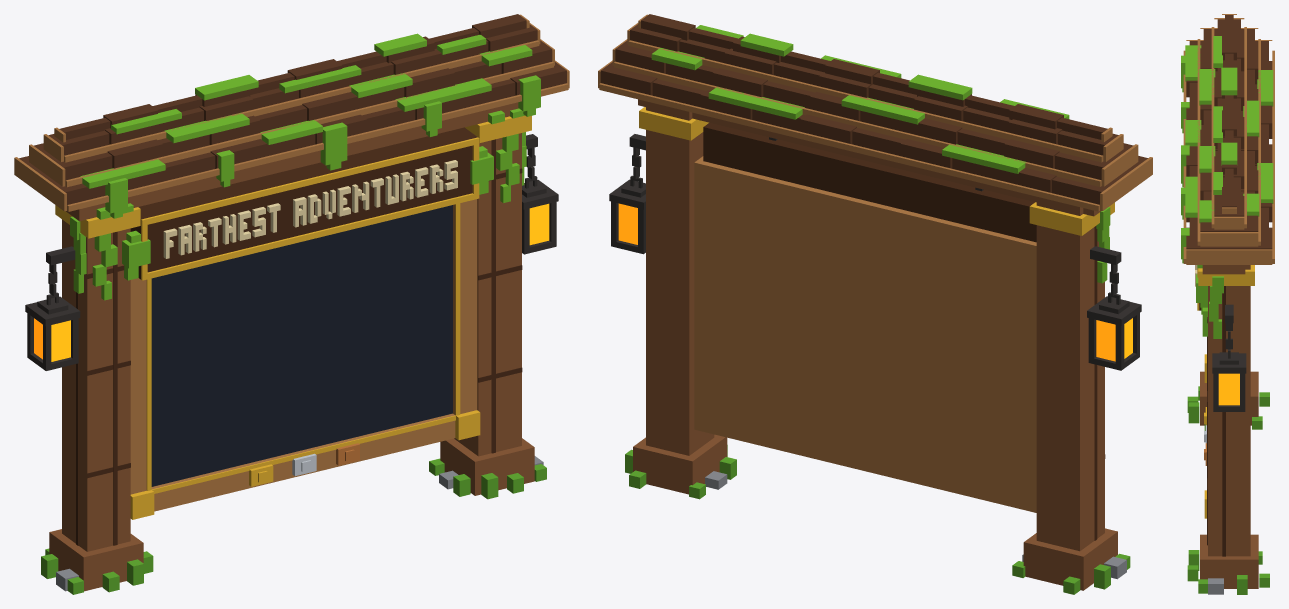
The model's file is Lobby_Leaderboard.glb.
3 renders of one model, left to right at view 1: azimuth 30°, elevation 25°; view 2: azimuth 150°, elevation 25°; view 3: azimuth 270°, elevation 25°, orthographic. The views are drawn at different scales.
Visible parts, largest first — view 1: LeaderboardFace, Roof_Shingles, Post_L, Header_Plank, Frame, Post_R, Roof_Edge_Planks, Roof_Moss, Header_Letters, Header_Trim, Crossbeam, Screen_Trim (+17 smaller); view 2: Frame, Roof_Shingles, Post_L, Post_R, Header_Plank, Roof_Edge_Planks, Roof_Moss, Foot_L, Foot_R, Lantern_L_Frame, Crossbeam, Lantern_R_Frame (+7 smaller); view 3: Roof_Shingles, Post_R, Roof_Moss, Roof_Edge_Planks, Foot_R, Lantern_R_Frame, Post_R_Grooves, Grass_R, Roof_Moss_Drips, Post_R_Vines, Foot_L, Lantern_R_Glass (+8 smaller).
Boxes of the visible parts, x1,y1,x2,y2 form: LeaderboardFace: (151, 205, 452, 486); Roof_Shingles: (19, 14, 566, 204); Post_L: (62, 219, 130, 551); Header_Plank: (130, 127, 477, 279); Frame: (130, 199, 477, 511); Post_R: (454, 133, 521, 456); Roof_Edge_Planks: (14, 14, 569, 211); Roof_Moss: (80, 33, 532, 188); Header_Letters: (163, 160, 457, 258); Header_Trim: (141, 137, 479, 280); Crossbeam: (66, 102, 518, 221); Screen_Trim: (146, 203, 460, 493); Frame: (694, 156, 1036, 512); Roof_Shingles: (600, 14, 1147, 204); Post_L: (1036, 197, 1104, 551); Post_R: (646, 101, 714, 455); Header_Plank: (703, 122, 1036, 242); Roof_Edge_Planks: (598, 14, 1152, 211); Roof_Moss: (651, 25, 1069, 173); Foot_L: (1023, 528, 1117, 590); Foot_R: (633, 434, 727, 494); Lantern_L_Frame: (1087, 292, 1141, 370); Crossbeam: (638, 99, 1100, 216); Lantern_R_Frame: (609, 175, 645, 254); Roof_Shingles: (1186, 15, 1272, 249); Post_R: (1208, 265, 1250, 556); Roof_Moss: (1185, 36, 1273, 223); Roof_Edge_Planks: (1183, 14, 1274, 264); Foot_R: (1200, 534, 1258, 588); Lantern_R_Frame: (1212, 349, 1246, 411); Post_R_Grooves: (1207, 286, 1225, 556); Grass_R: (1187, 550, 1269, 594); Roof_Moss_Drips: (1181, 55, 1189, 263); Post_R_Vines: (1200, 286, 1221, 338); Foot_L: (1200, 371, 1258, 425); Lantern_R_Glass: (1218, 373, 1239, 405).
Size of the model in its own units: 4.72 by 4 by 0.875.
